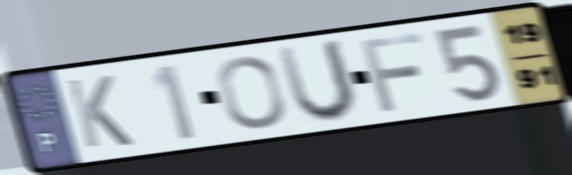1: (150, 61, 197, 144)
5: (429, 19, 503, 104)
F: (357, 29, 428, 115)
K: (62, 73, 138, 152)
O: (214, 53, 289, 132)
U: (272, 36, 362, 126)
